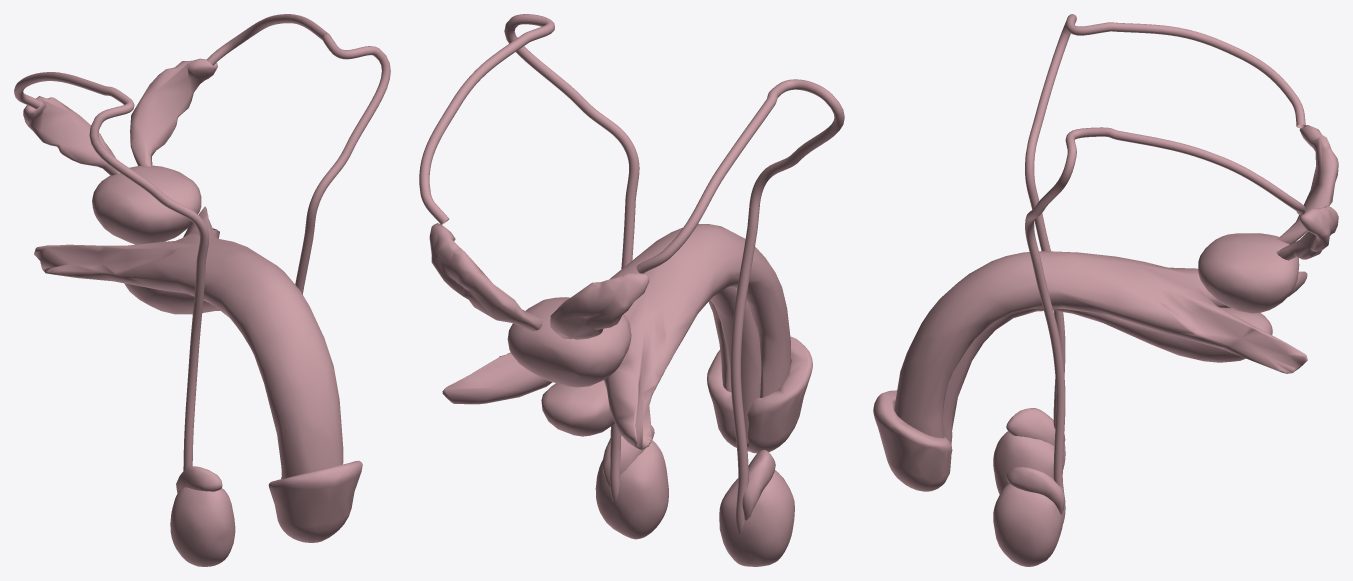
The model's file is male-reproductive.glb.
The picture shows the model from 3 angles, left to right: view 1: azimuth 30°, elevation 25°; view 2: azimuth 150°, elevation 25°; view 3: azimuth 270°, elevation 25°; orthographic projection. The views are drawn at different scales.
Parts seen in each view (by area): view 1: Corpus_cavernosum_of_penis, Prostate, Ductus_deferensr, Glans_penis, Seminal_glandl, Ductus_deferensl, Testisr, Seminal_glandr, Corpus_spongiosum_of_penis, Epididymisr; view 2: Corpus_cavernosum_of_penis, Ductus_deferensr, Ductus_deferensl, Prostate, Corpus_spongiosum_of_penis, Glans_penis, Testisr, Testisl, Seminal_glandl, Seminal_glandr, Epididymisr, Epididymisl; view 3: Corpus_cavernosum_of_penis, Prostate, Ductus_deferensl, Ductus_deferensr, Corpus_spongiosum_of_penis, Glans_penis, Testisl, Seminal_glandr, Testisr, Seminal_glandl, Epididymisl, Epididymisr.
Boxes of the visible parts, x1=… form: Corpus_cavernosum_of_penis: x1=34, y1=206, x2=343, y2=479; Prostate: x1=92, y1=165, x2=201, y2=244; Ductus_deferensr: x1=14, y1=72, x2=209, y2=470; Glans_penis: x1=268, y1=460, x2=362, y2=542; Seminal_glandl: x1=130, y1=58, x2=217, y2=166; Ductus_deferensl: x1=206, y1=14, x2=390, y2=294; Testisr: x1=170, y1=487, x2=235, y2=566; Seminal_glandr: x1=23, y1=96, x2=119, y2=175; Corpus_spongiosum_of_penis: x1=124, y1=283, x2=220, y2=314; Epididymisr: x1=176, y1=466, x2=222, y2=493; Corpus_cavernosum_of_penis: x1=442, y1=223, x2=790, y2=449; Ductus_deferensr: x1=636, y1=79, x2=844, y2=533; Ductus_deferensl: x1=419, y1=14, x2=639, y2=503; Prostate: x1=507, y1=297, x2=631, y2=387; Corpus_spongiosum_of_penis: x1=541, y1=287, x2=761, y2=447; Glans_penis: x1=707, y1=336, x2=812, y2=453; Testisr: x1=719, y1=470, x2=794, y2=566; Testisl: x1=595, y1=440, x2=668, y2=539; Seminal_glandl: x1=429, y1=223, x2=543, y2=331; Seminal_glandr: x1=550, y1=272, x2=649, y2=339; Epididymisr: x1=742, y1=449, x2=775, y2=520; Epididymisl: x1=602, y1=425, x2=654, y2=486; Corpus_cavernosum_of_penis: x1=894, y1=251, x2=1307, y2=438; Prostate: x1=1198, y1=233, x2=1299, y2=313; Ductus_deferensl: x1=1025, y1=127, x2=1305, y2=524; Ductus_deferensr: x1=1025, y1=14, x2=1305, y2=469; Corpus_spongiosum_of_penis: x1=942, y1=307, x2=1272, y2=474; Glans_penis: x1=873, y1=390, x2=952, y2=491; Testisl: x1=993, y1=483, x2=1062, y2=566; Seminal_glandr: x1=1279, y1=125, x2=1338, y2=244; Testisr: x1=993, y1=431, x2=1063, y2=494; Seminal_glandl: x1=1277, y1=206, x2=1338, y2=260; Epididymisl: x1=1006, y1=467, x2=1065, y2=514; Epididymisr: x1=1006, y1=408, x2=1065, y2=445.
Bounding box in the file's own units: 0.3591 × 0.5291 × 0.4828.
